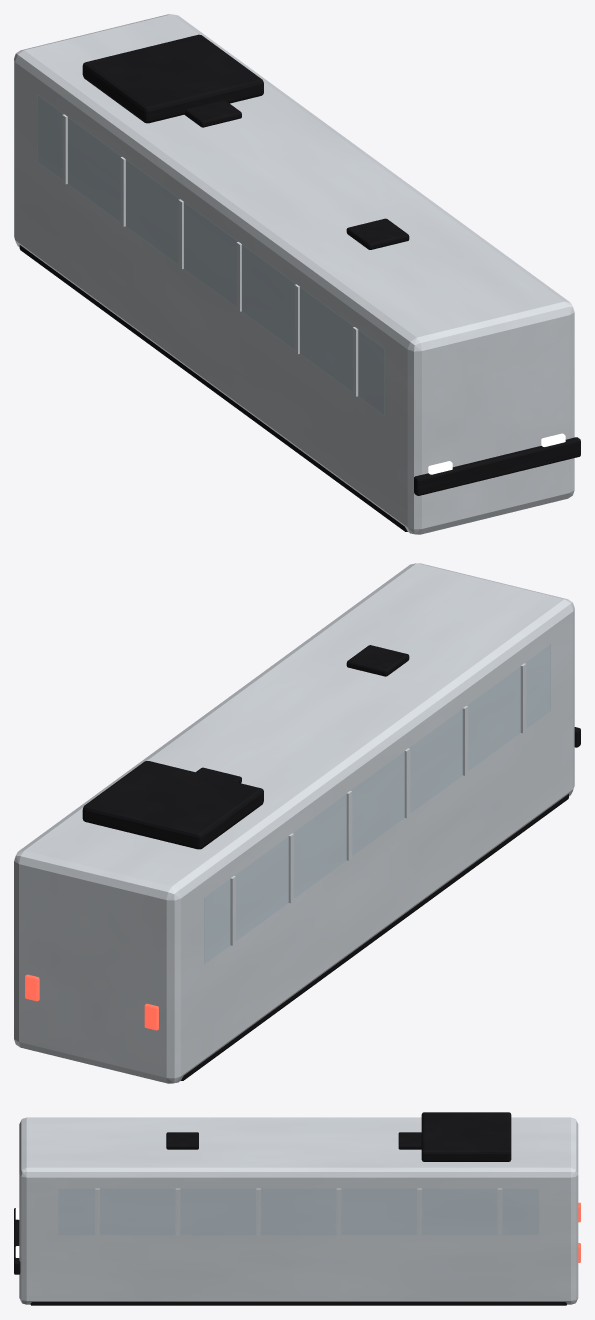
File: bus_city.glb
3 views of the same model, one above another, from view 1: azimuth 30°, elevation 25°; view 2: azimuth 150°, elevation 25°; view 3: azimuth 270°, elevation 25° (orthographic). The views are drawn at different scales.
Visible parts, largest first — view 1: bus_city_body, bus_city_glass_side_l, bus_city_ac_unit, bus_city_bumper_front, bus_city_skirt, bus_city_hatch_0, bus_city_hatch_1; view 2: bus_city_body, bus_city_glass_side_l, bus_city_ac_unit, bus_city_skirt, bus_city_hatch_0; view 3: bus_city_body, bus_city_glass_side_r, bus_city_ac_unit, bus_city_skirt, bus_city_hatch_0, bus_city_hatch_1, bus_city_bumper_front, bus_city_pillar_r_1, bus_city_pillar_r_3, bus_city_pillar_r_5.
Boxes of the visible parts, bbox=[...] form: bus_city_body: bbox=[14, 14, 574, 534]; bus_city_glass_side_l: bbox=[38, 96, 383, 414]; bus_city_ac_unit: bbox=[82, 34, 263, 123]; bus_city_bumper_front: bbox=[414, 437, 580, 495]; bus_city_skirt: bbox=[19, 245, 407, 531]; bus_city_hatch_0: bbox=[346, 218, 409, 249]; bus_city_hatch_1: bbox=[184, 100, 241, 127]; bus_city_body: bbox=[14, 563, 574, 1083]; bus_city_glass_side_l: bbox=[204, 644, 550, 964]; bus_city_ac_unit: bbox=[82, 761, 263, 849]; bus_city_skirt: bbox=[181, 794, 568, 1080]; bus_city_hatch_0: bbox=[346, 645, 409, 676]; bus_city_body: bbox=[19, 1117, 578, 1304]; bus_city_glass_side_r: bbox=[59, 1189, 538, 1234]; bus_city_ac_unit: bbox=[421, 1112, 511, 1161]; bus_city_skirt: bbox=[30, 1302, 566, 1305]; bus_city_hatch_0: bbox=[166, 1132, 198, 1149]; bus_city_hatch_1: bbox=[398, 1132, 421, 1149]; bus_city_bumper_front: bbox=[14, 1208, 20, 1274]; bus_city_pillar_r_1: bbox=[175, 1188, 180, 1235]; bus_city_pillar_r_3: bbox=[336, 1188, 341, 1235]; bus_city_pillar_r_5: bbox=[497, 1188, 502, 1235].
Bounding box in the file's own units: 2.59 × 3.1 × 10.75.
47 materials, 47 textured.
